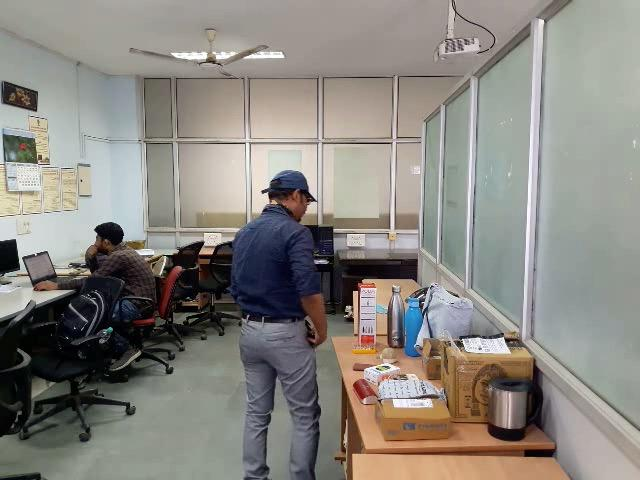shoplifting: (244, 298, 346, 410)
